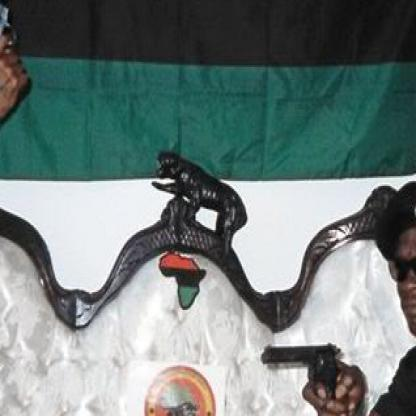gun: (255, 334, 364, 414), (0, 0, 17, 75)
